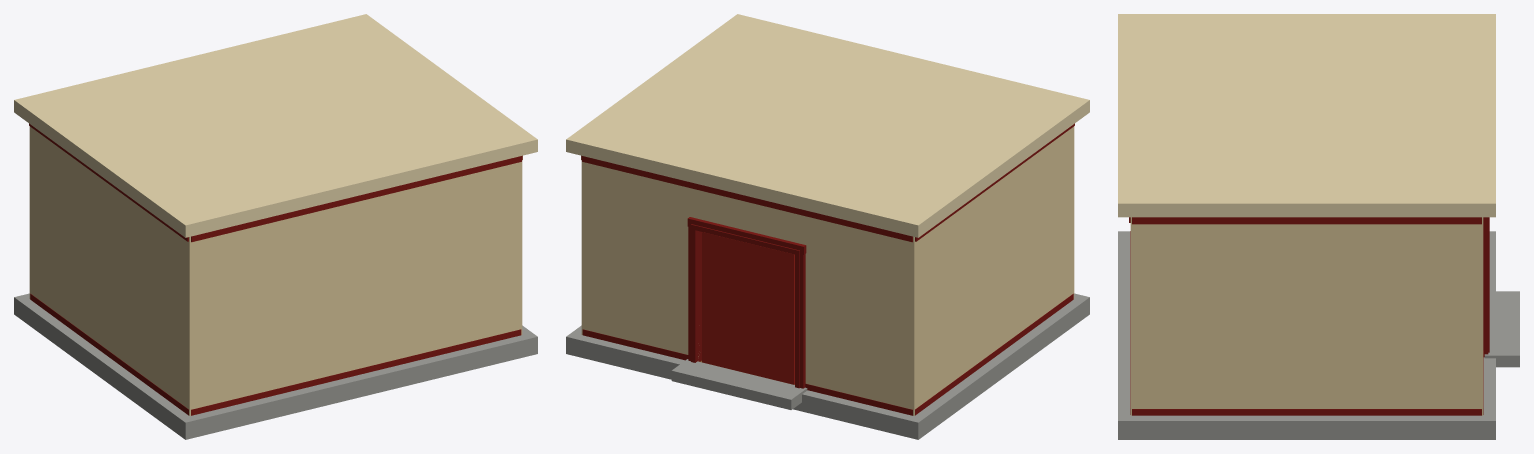
The model's file is SM_Interior_slifer_player_room_Shell.fbx.
The picture shows the model from 3 angles, left to right: view 1: azimuth 30°, elevation 25°; view 2: azimuth 150°, elevation 25°; view 3: azimuth 270°, elevation 25°; orthographic projection. The views are drawn at different scales.
Visible parts, largest first — view 1: SM_Interior_slifer_player_room_Shell; view 2: SM_Interior_slifer_player_room_Shell; view 3: SM_Interior_slifer_player_room_Shell.
Boxes of the visible parts, x1,y1,x2,y2 form: SM_Interior_slifer_player_room_Shell: (14, 14, 537, 439); SM_Interior_slifer_player_room_Shell: (566, 14, 1089, 439); SM_Interior_slifer_player_room_Shell: (1118, 14, 1519, 439).
Size of the model in its own units: 6.36 by 3.7 by 5.7.
